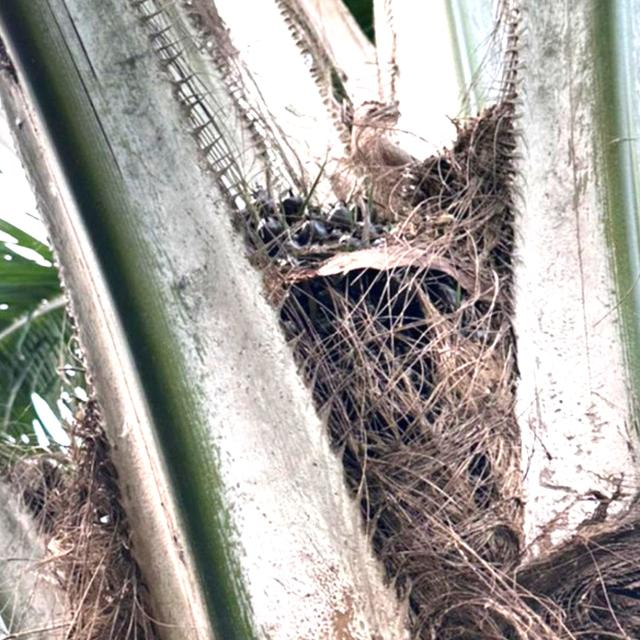unripe: (230, 147, 530, 605)
